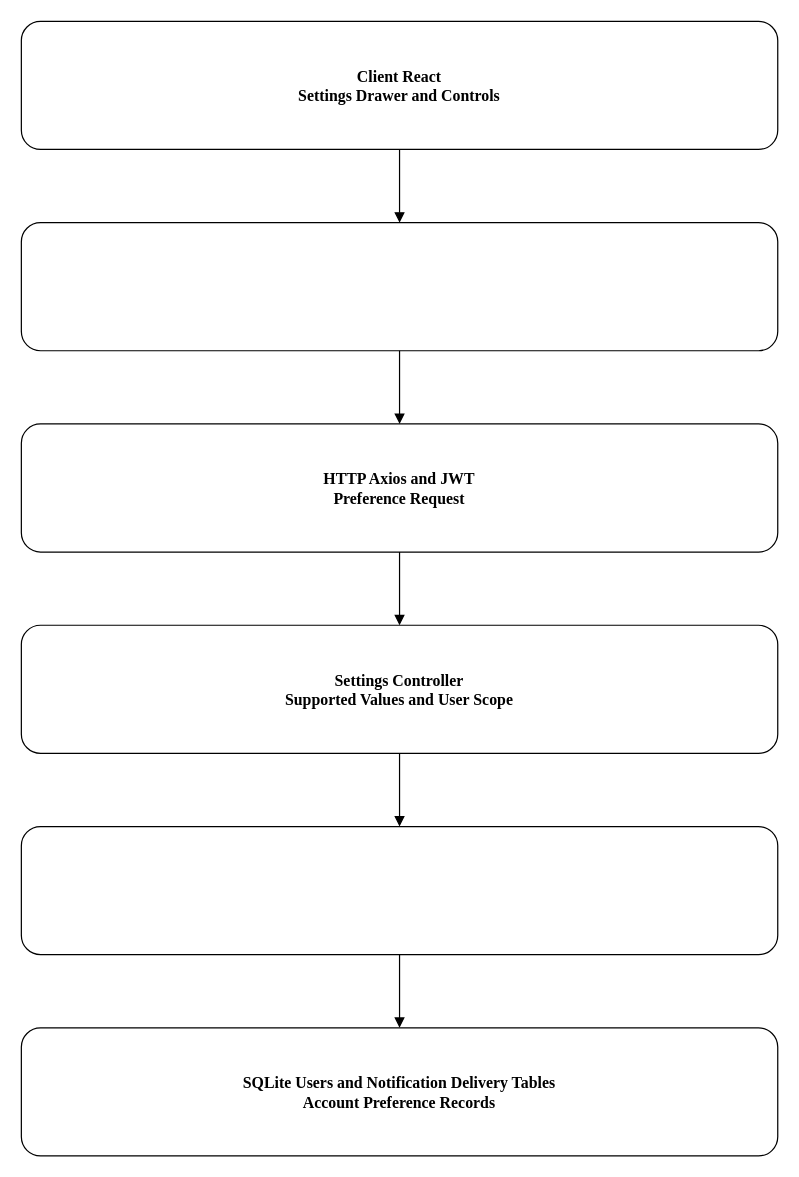
The diagram is 799 pixels wide and 1177 high, and some of its shapes have lost their labels. Each missing label, with the centre of its shape:
"Language Theme Context Immediate Interface Update" belongs at point (399, 286).
"Preference Service Local Persistence and Validation" belongs at point (399, 890).
